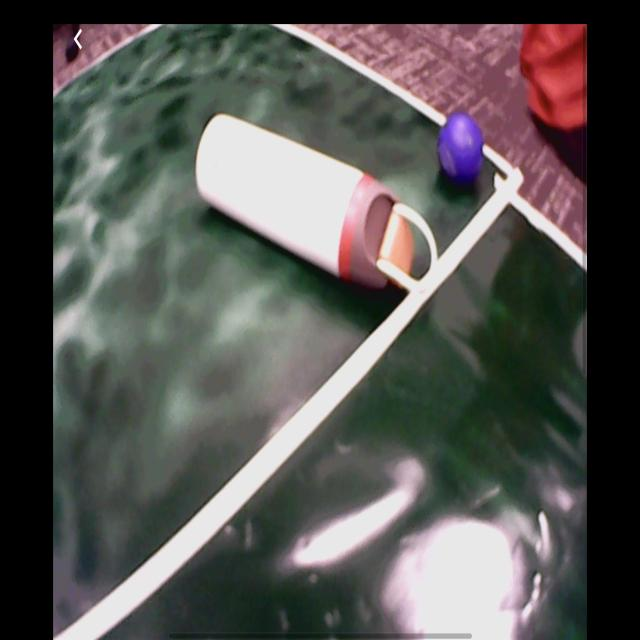ball: (438, 115, 486, 190)
